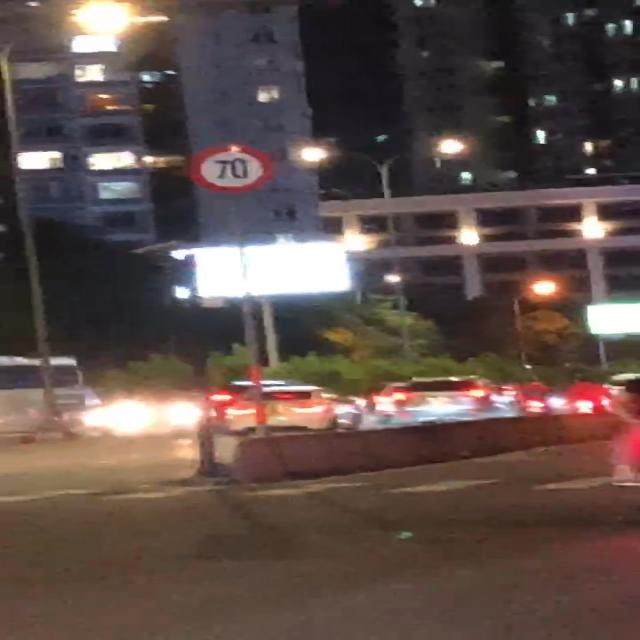Bien bao toc do toi da cho phep: (190, 140, 280, 190)
